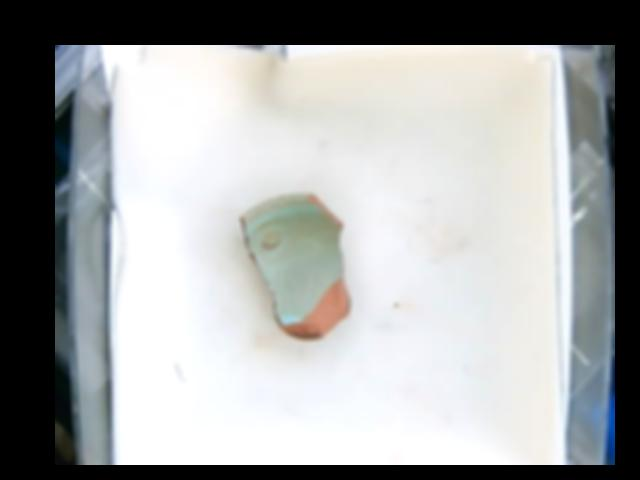China: (243, 192, 347, 338)
